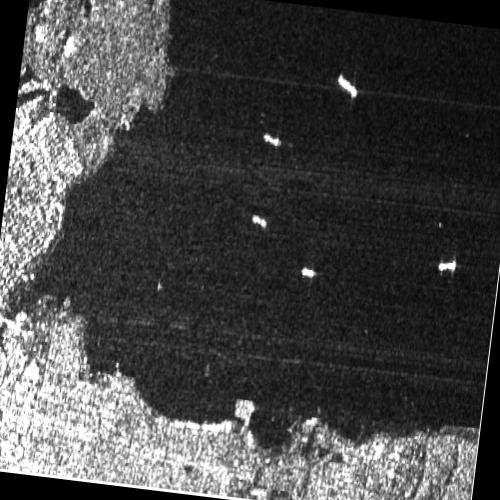ship: (336, 74, 357, 97), (251, 213, 266, 229), (438, 260, 456, 272), (264, 133, 280, 146), (300, 266, 316, 278)
